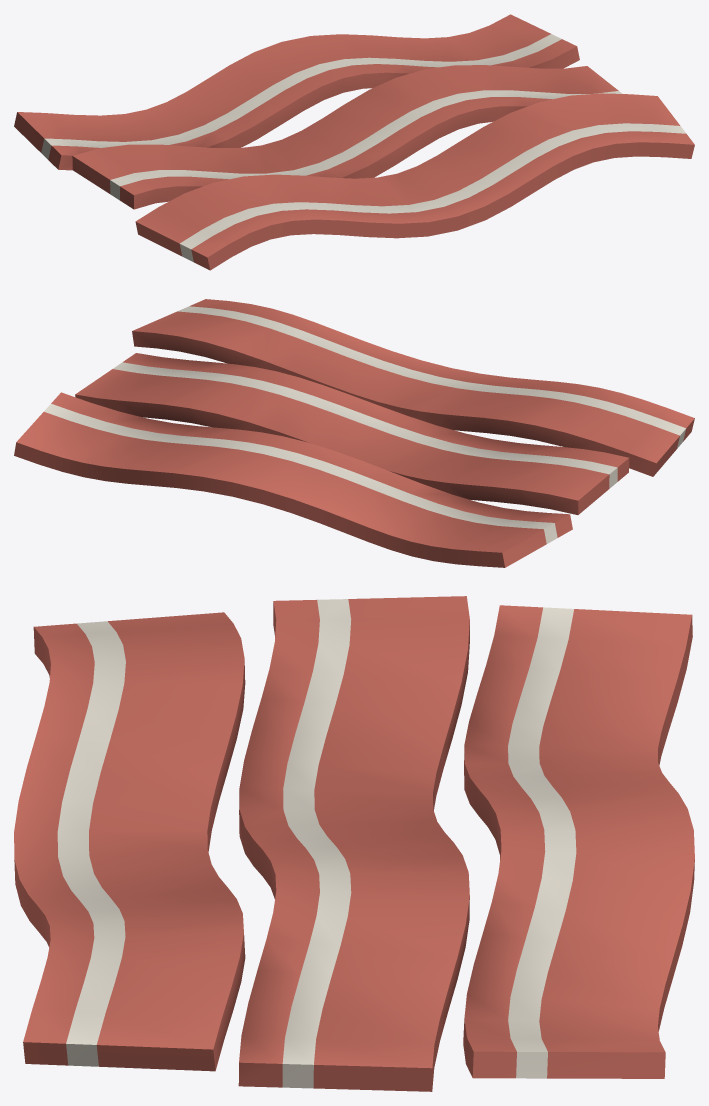
File: food_bacon.glb
3 views of the same model, one above another, from view 1: azimuth 30°, elevation 25°; view 2: azimuth 150°, elevation 25°; view 3: azimuth 270°, elevation 25° (orthographic). The views are drawn at different scales.
Parts seen in each view (by area): view 1: PART; view 2: PART; view 3: PART.
Part boxes in pixels (left/top/right/bottom): PART: left=14, top=14, right=694, bottom=270; PART: left=14, top=299, right=694, bottom=567; PART: left=14, top=596, right=694, bottom=1091.
Bounding box in the file's own units: 0.1663 × 0.0137 × 0.109.
